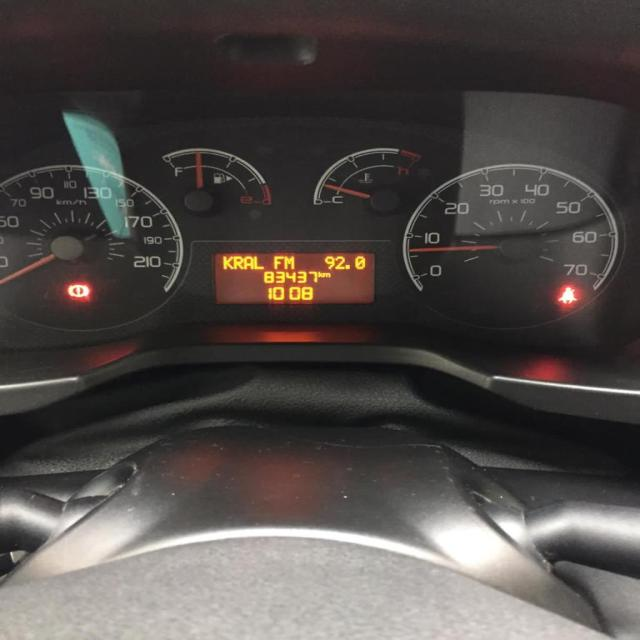odometer: (210, 251, 377, 303)
